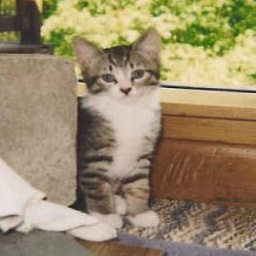cat: (57, 31, 176, 232)
